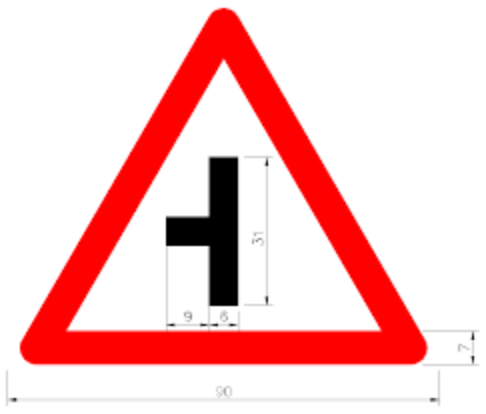Fork_road: (41, 6, 422, 369)
